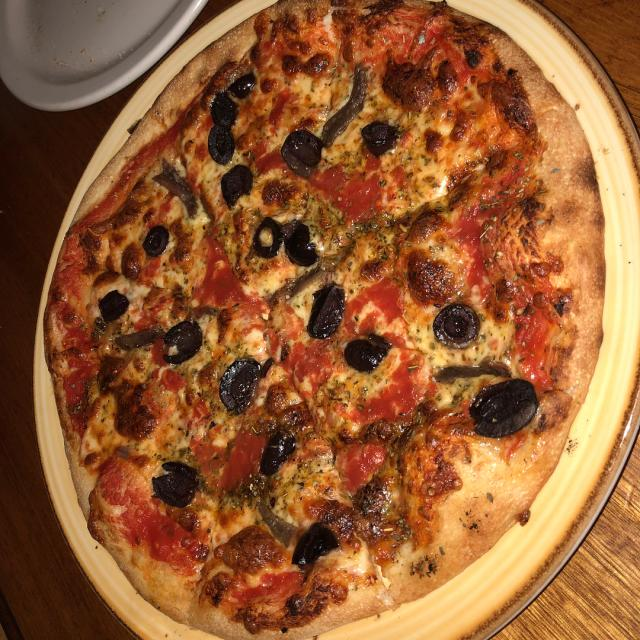black_olives: (468, 379, 538, 437), (219, 359, 261, 414), (291, 522, 339, 567), (152, 462, 199, 507), (432, 304, 480, 348), (306, 284, 345, 338), (344, 334, 391, 371), (164, 322, 202, 364), (260, 431, 295, 476), (285, 222, 318, 266), (222, 165, 252, 207), (256, 220, 284, 258), (208, 125, 235, 164), (210, 91, 238, 127), (98, 290, 128, 321), (142, 225, 169, 258)
pizza: (45, 0, 605, 640)
